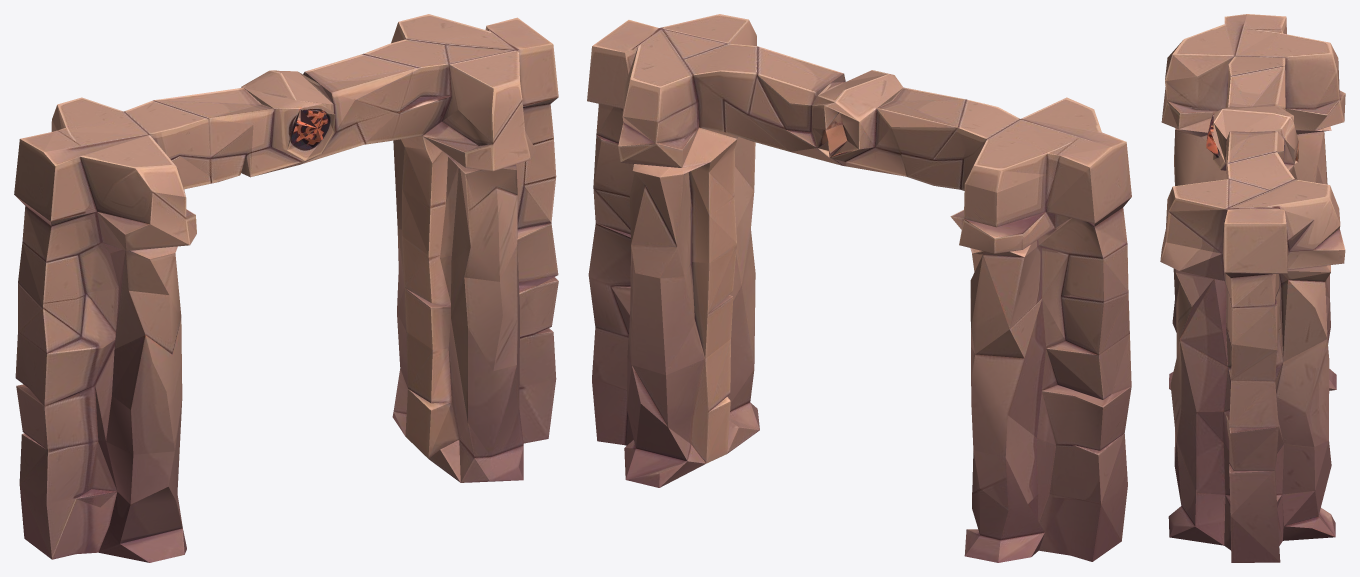
The model's file is porta-arco.glb.
The picture shows the model from 3 angles, left to right: view 1: azimuth 30°, elevation 25°; view 2: azimuth 150°, elevation 25°; view 3: azimuth 270°, elevation 25°; orthographic projection. The views are drawn at different scales.
Size of the model in its own units: 1.9 by 1.44 by 0.692.
1 material, 1 textured.
